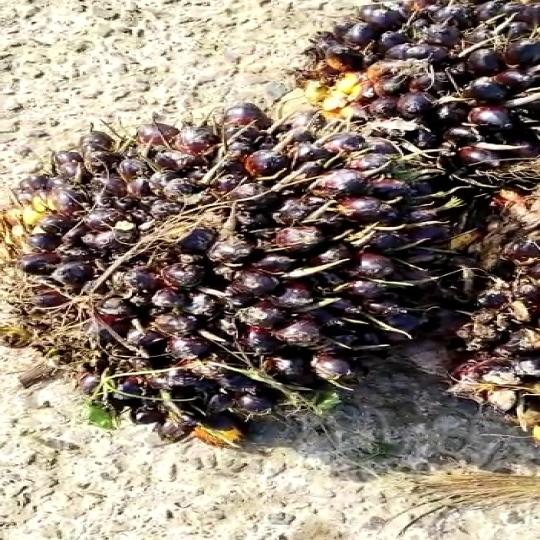kurang masak: (0, 95, 485, 477)
